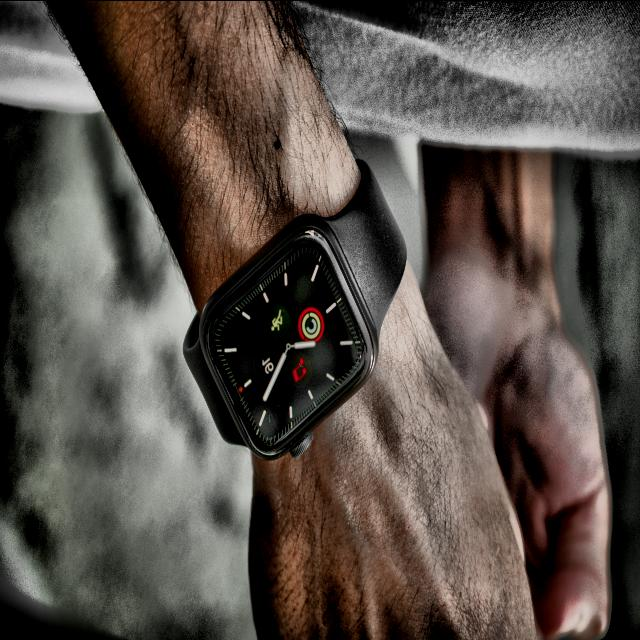Electronic watch: (184, 158, 406, 459)
